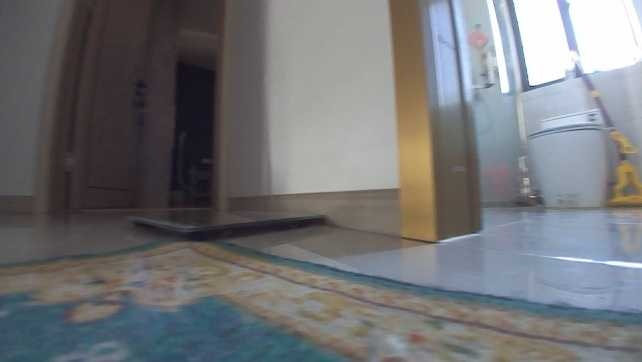blanket: (0, 237, 641, 360)
toilet: (524, 107, 615, 207)
weight_scale: (125, 203, 322, 235)
